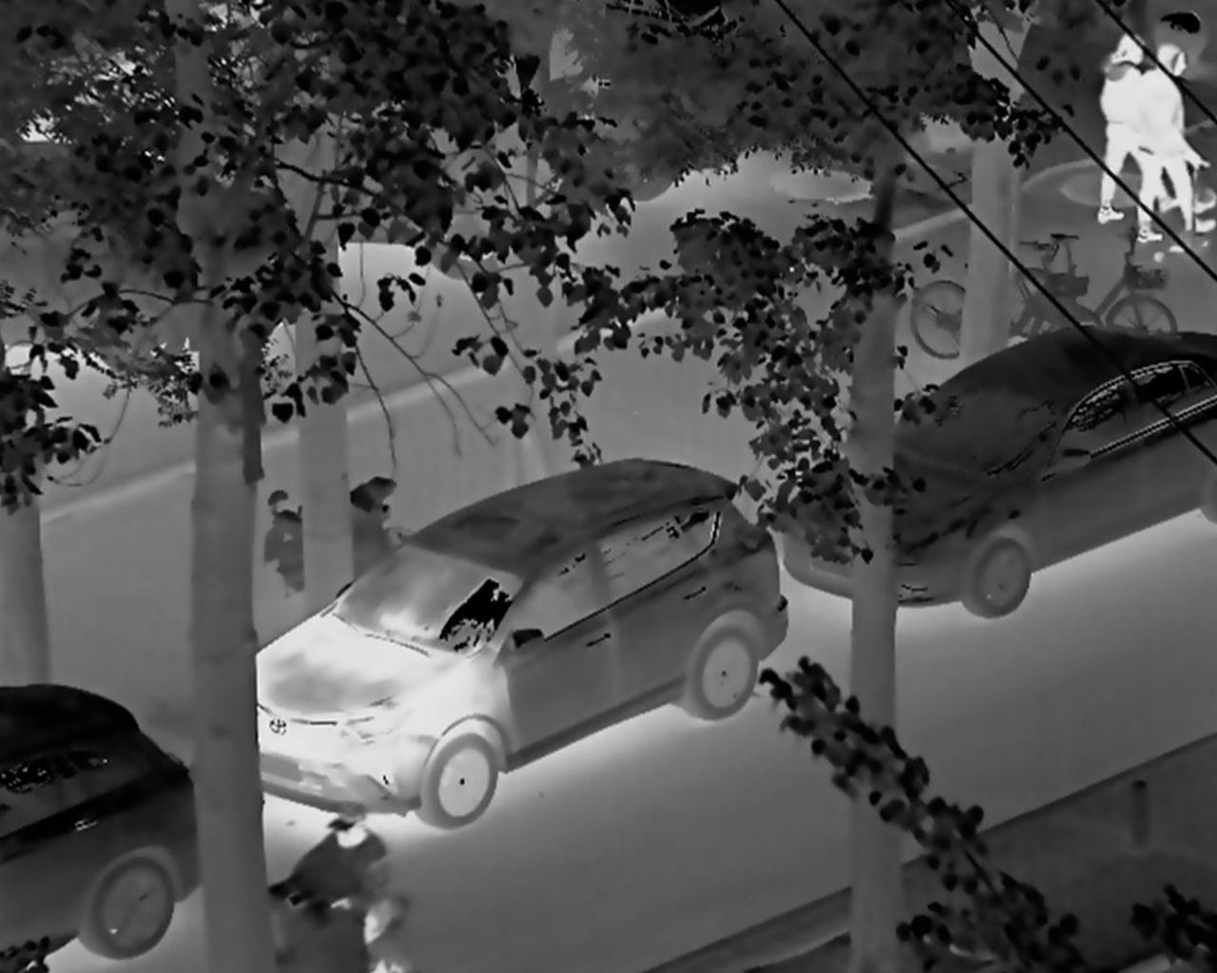person: (266, 800, 410, 968), (1139, 29, 1208, 265), (1080, 29, 1156, 232)
